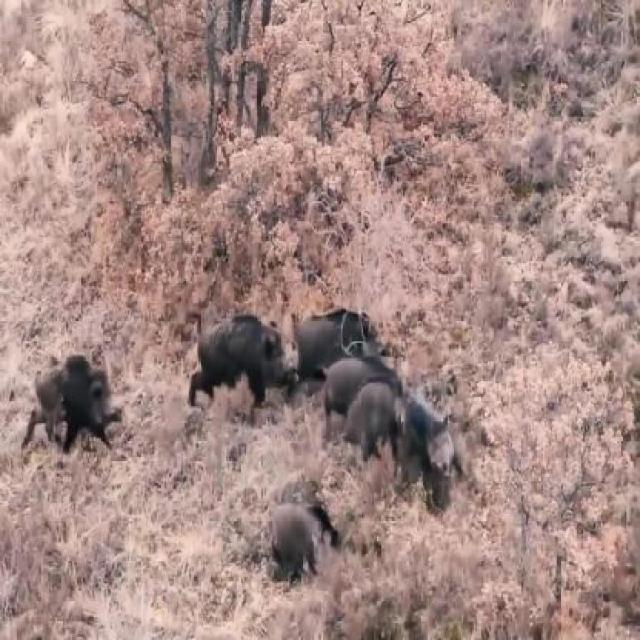pig: (30, 326, 152, 465), (190, 286, 294, 414), (350, 374, 462, 486), (254, 470, 344, 566), (283, 280, 367, 360), (312, 341, 397, 404)
